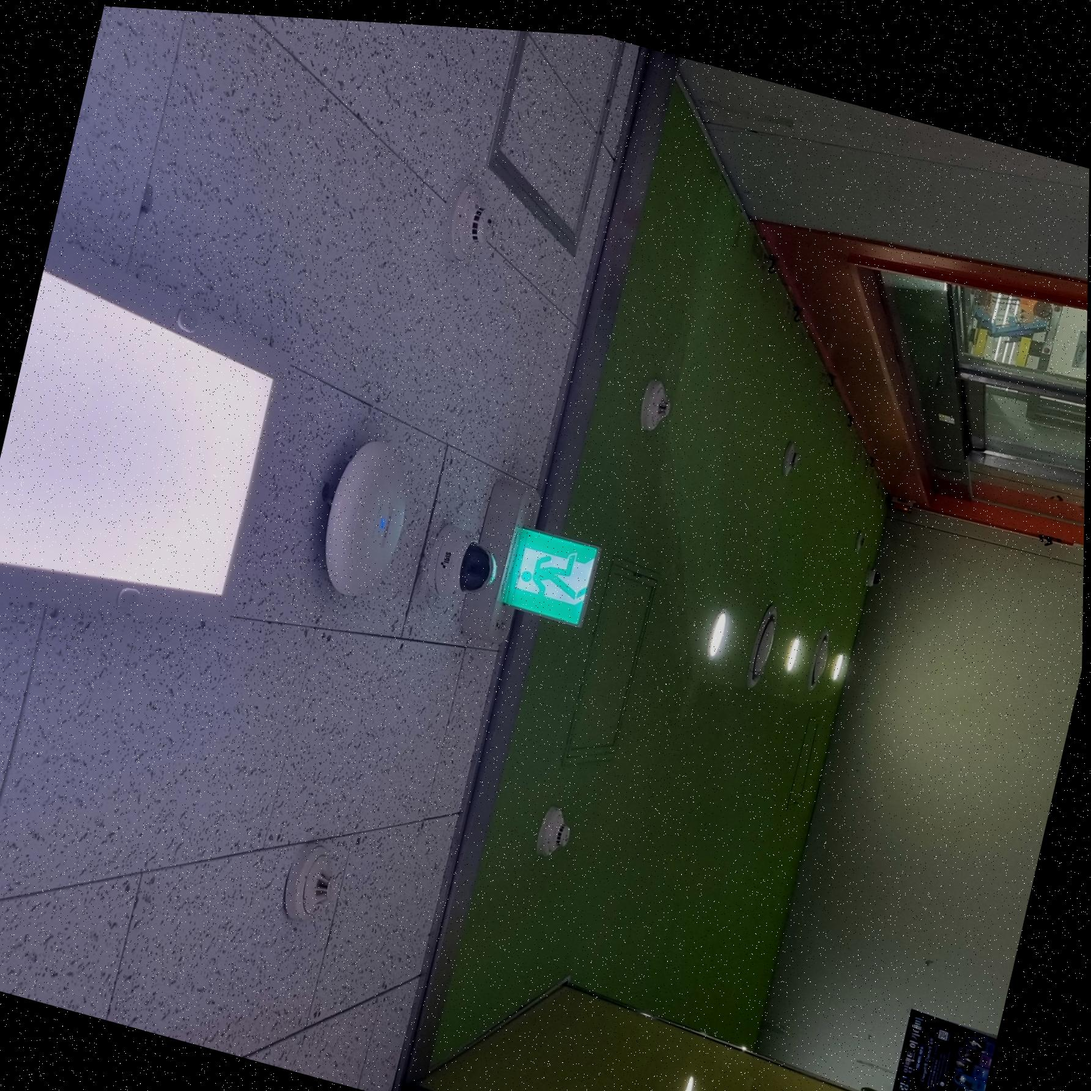emergency_exit: (497, 524, 601, 628)
